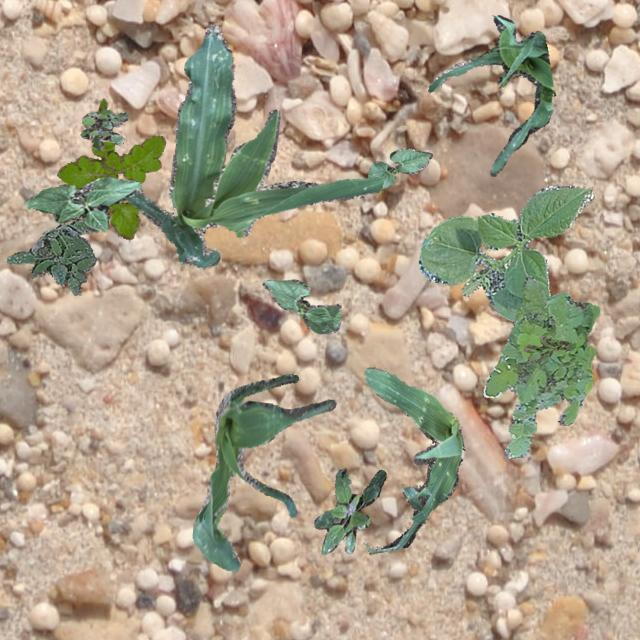crop: (126, 23, 382, 266), (192, 374, 334, 570), (418, 184, 592, 320), (428, 13, 554, 175), (364, 366, 464, 554), (22, 176, 140, 230), (262, 278, 340, 332), (366, 148, 432, 186)
weed: (482, 274, 598, 458), (56, 98, 164, 238), (6, 218, 98, 294), (314, 468, 384, 554), (80, 109, 128, 150), (522, 334, 574, 362)
